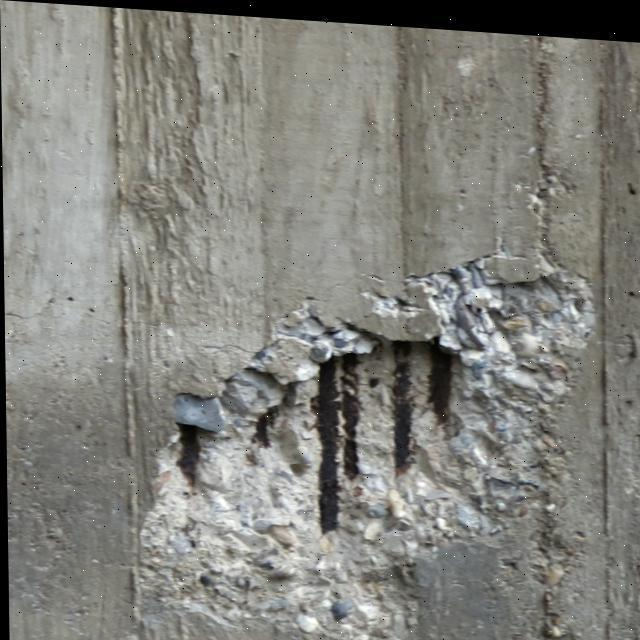D0w0: (134, 266, 593, 639)
